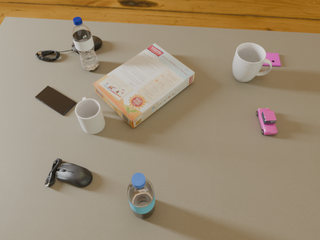bottle: (72, 17, 99, 71), (128, 173, 155, 219)
box: (93, 43, 195, 128)
cup: (232, 43, 272, 82), (75, 97, 105, 134)
mouse: (45, 158, 92, 187), (71, 36, 102, 54)
phone: (35, 86, 76, 115), (263, 53, 281, 66)
toy_car: (256, 108, 277, 135)
